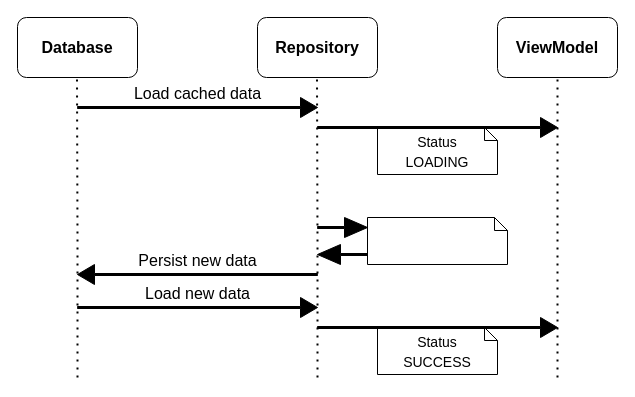
Some shapes in this 635 by 397 pixel diagram are drawn without their labels. Here are the shapes that lost their labels. From the top down, the centre of each, then its label:
point (437, 127): Return cached data
point (437, 240): Retrieve new data from API
point (437, 327): Return new data
